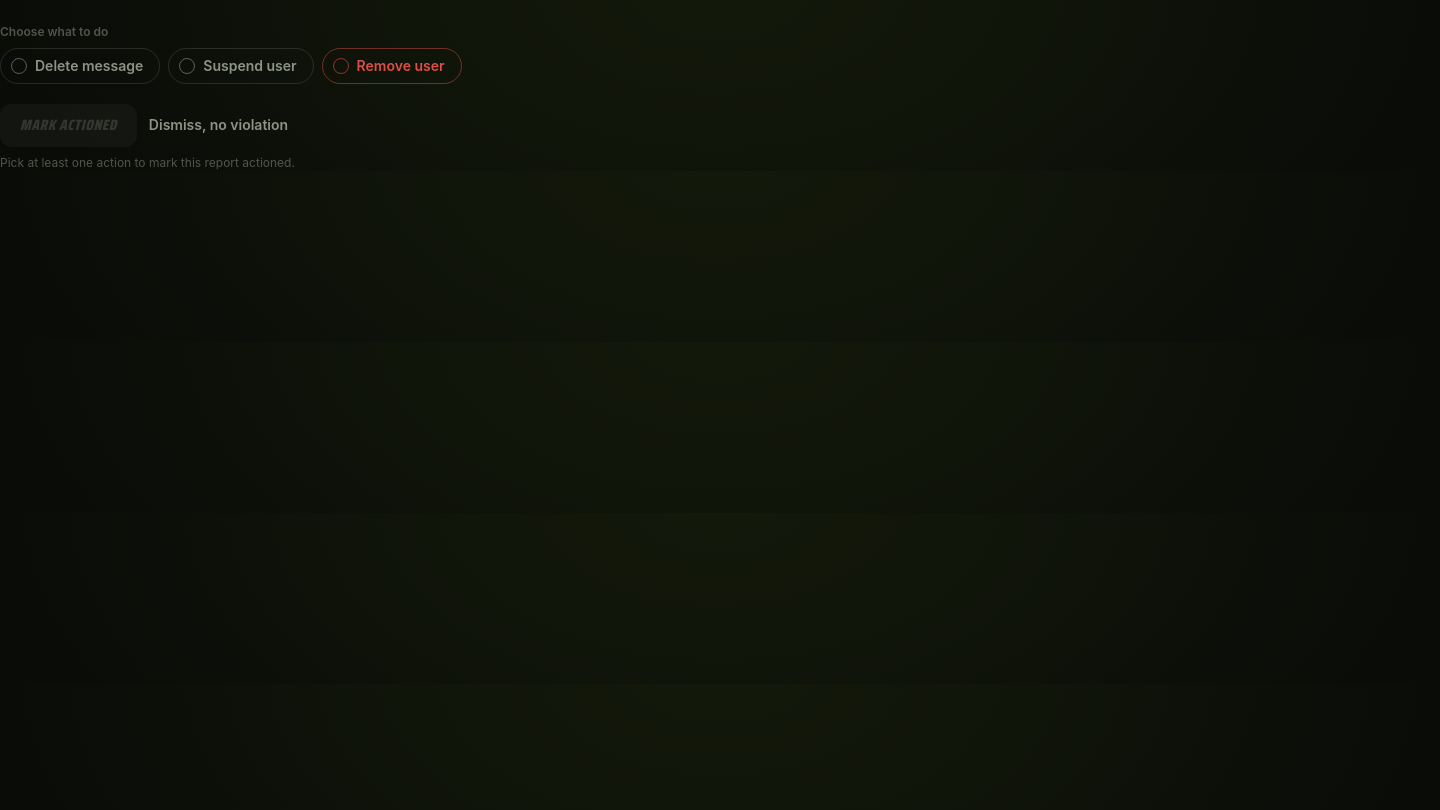
Test case: a failed step keeps the report open and says which step failed
Click the button "Delete message".
click(80, 66)  # box [0,48,160,84]
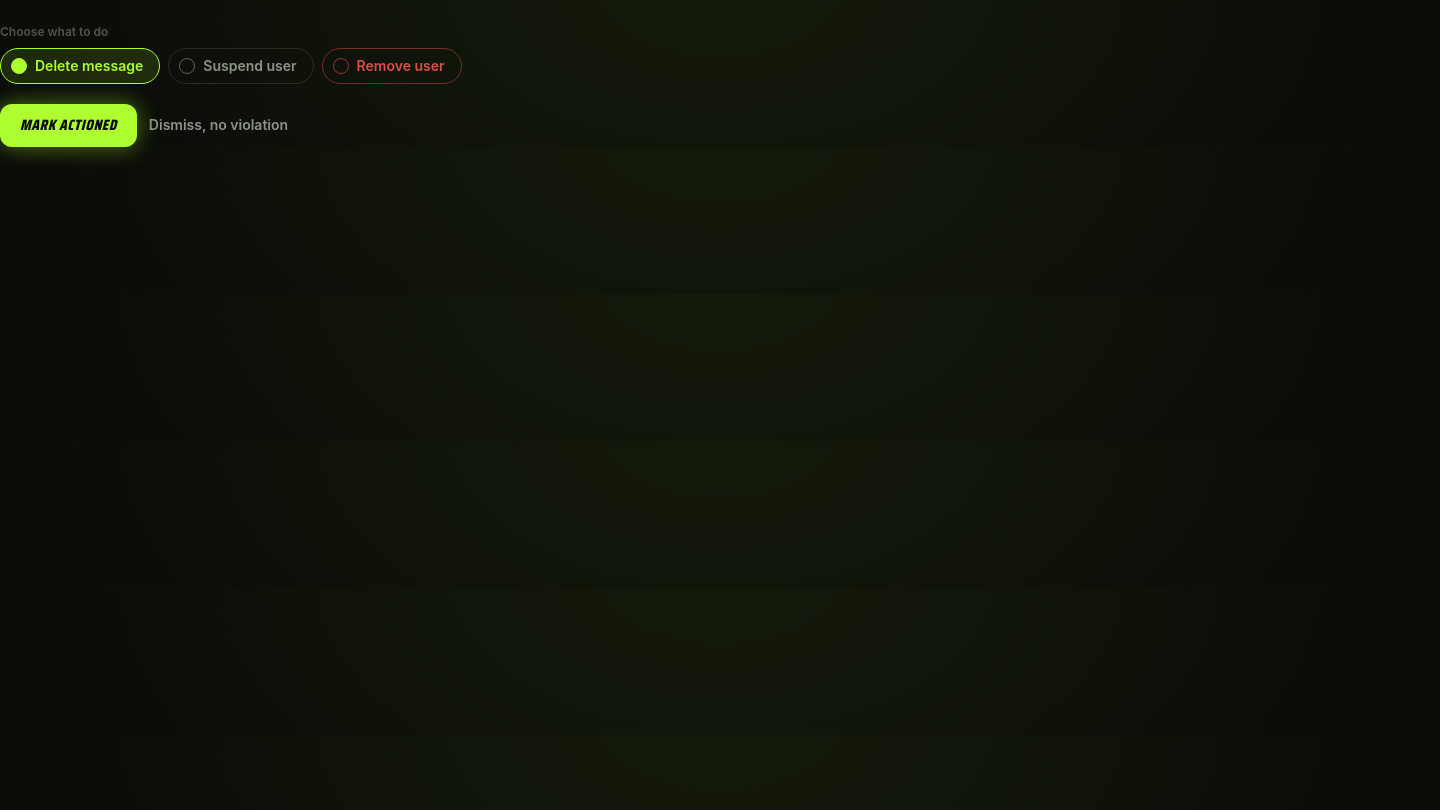
Click the button "Mark actioned".
click(68, 125)  # box [0,104,137,146]
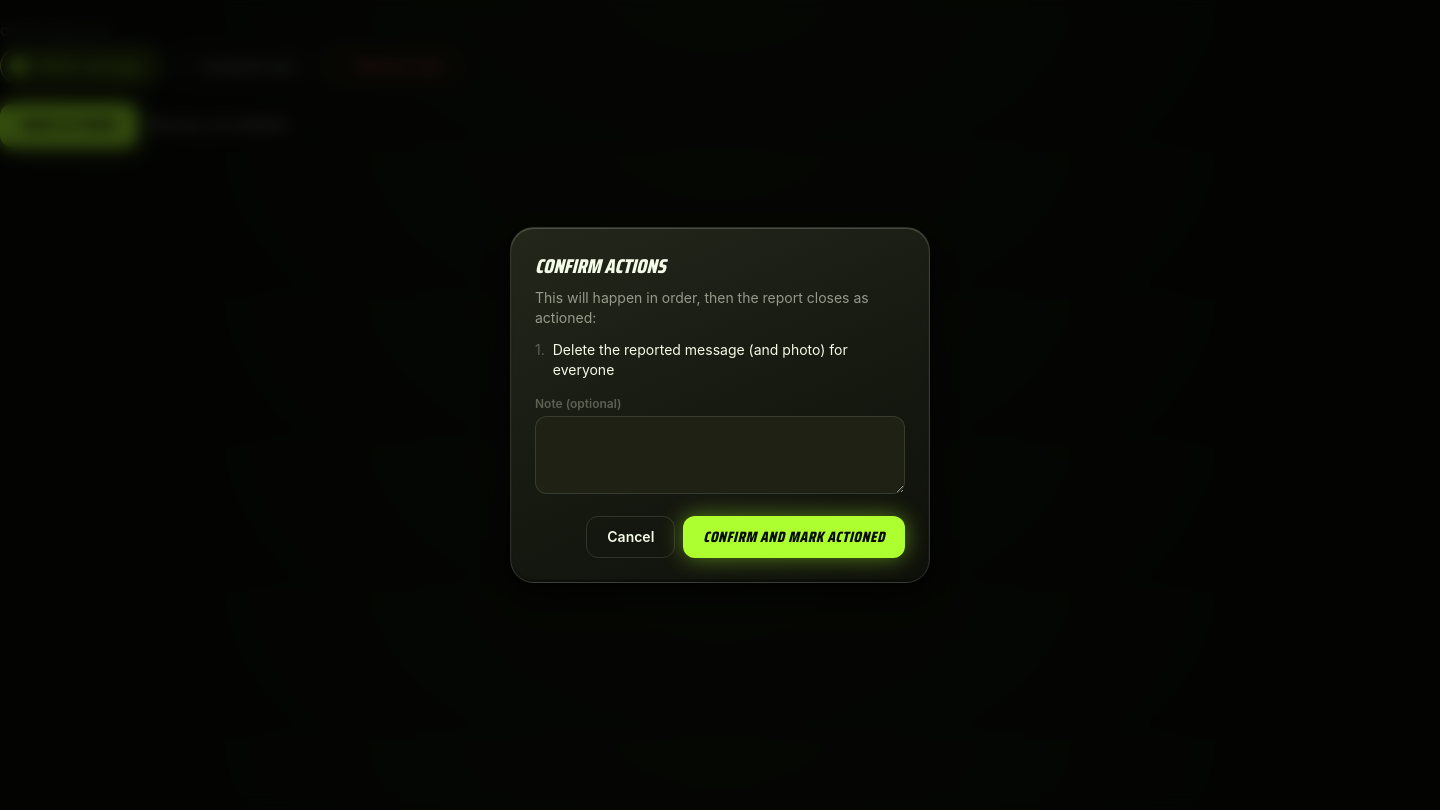
Type "x" into the text box labelled "Note (optional)".
click(720, 455); type("x")  # box [535,416,905,494]
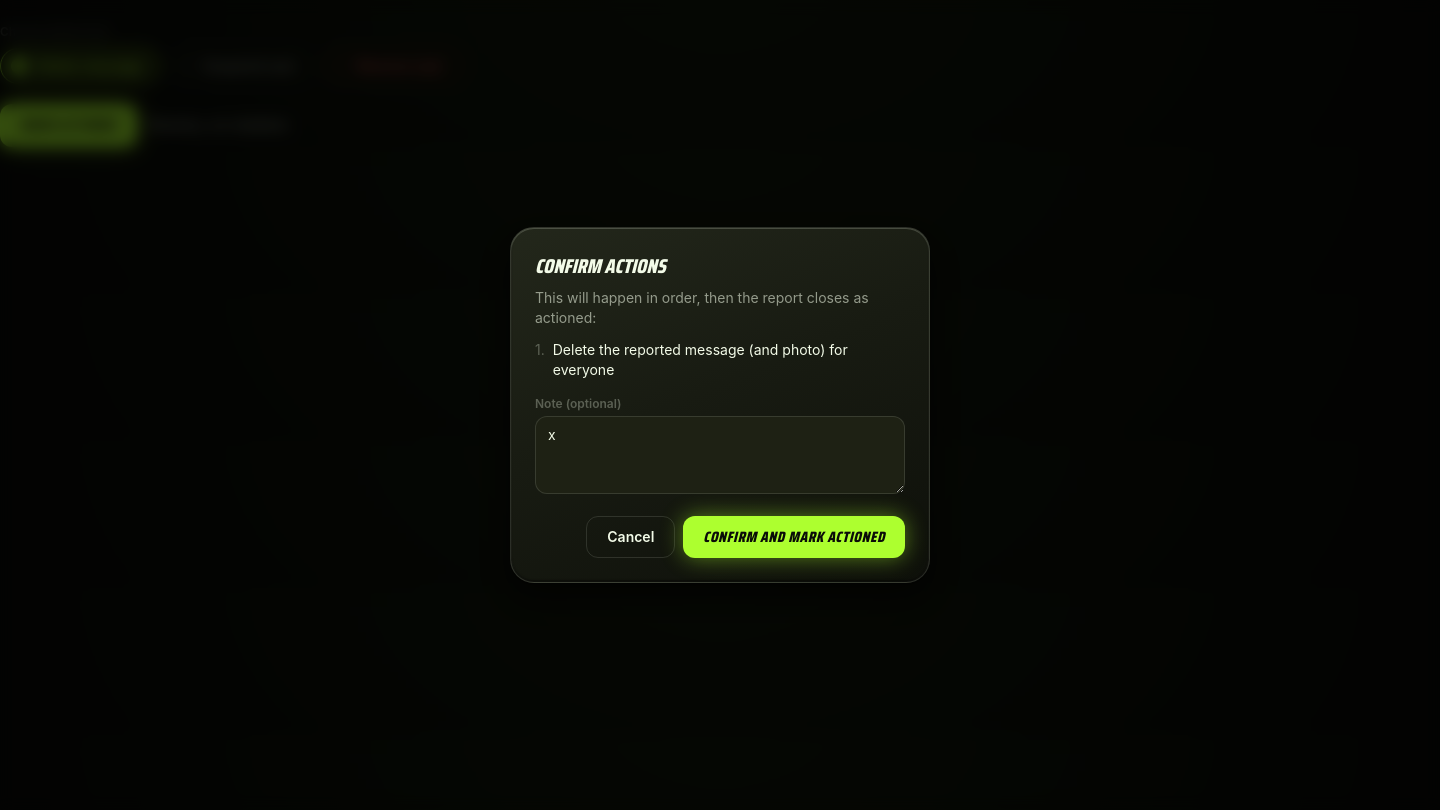
Click the button "Confirm and mark actioned".
click(794, 537)  # box [683,516,905,558]
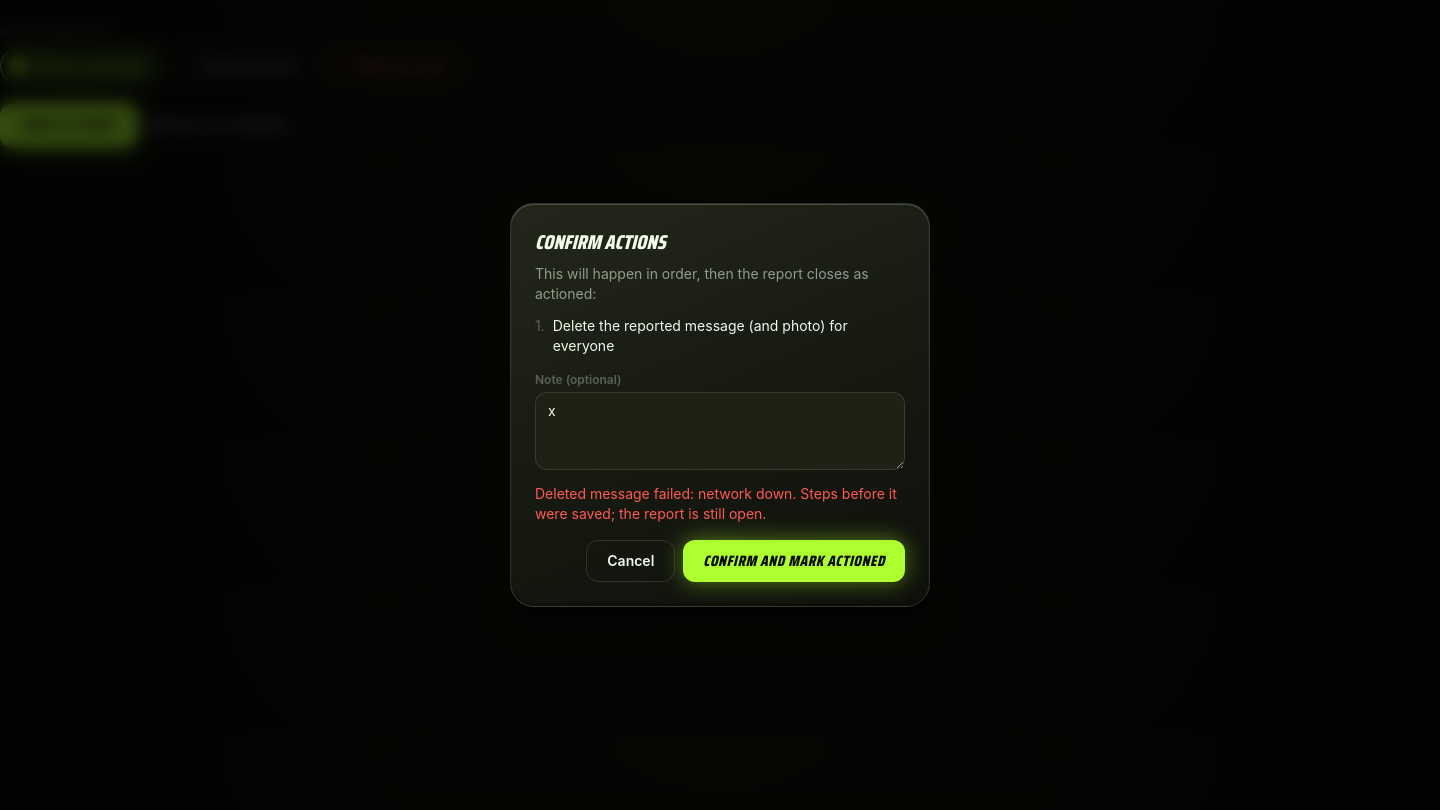
Expected: the message shows "Deleted message failed: network down", [535,485,897,522]
